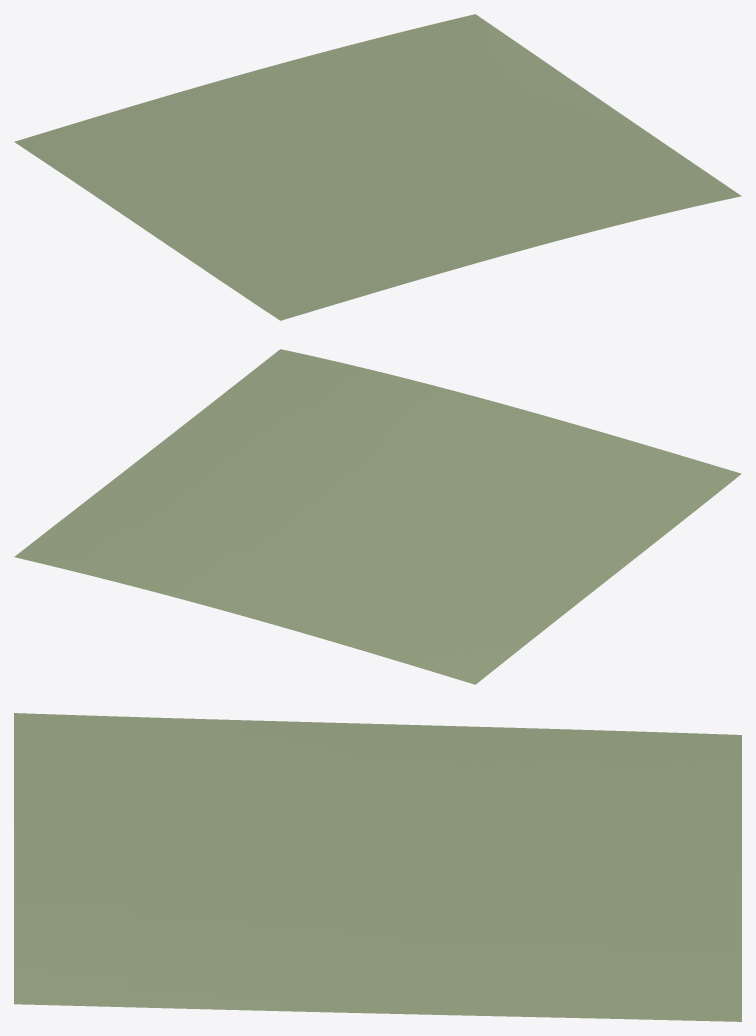
File: expanse-6-22.glb
The picture shows the model from 3 angles, top to bottom: view 1: azimuth 30°, elevation 25°; view 2: azimuth 150°, elevation 25°; view 3: azimuth 270°, elevation 25°; orthographic projection. The views are drawn at different scales.
Visible parts, largest first — view 1: expanse-6-22; view 2: expanse-6-22; view 3: expanse-6-22.
Part boxes in pixels (x1,y1,x2,y2): expanse-6-22: (14, 14, 741, 320); expanse-6-22: (14, 349, 741, 684); expanse-6-22: (14, 713, 741, 1021).
Size of the model in its own units: 256 by 15.65 by 256.
